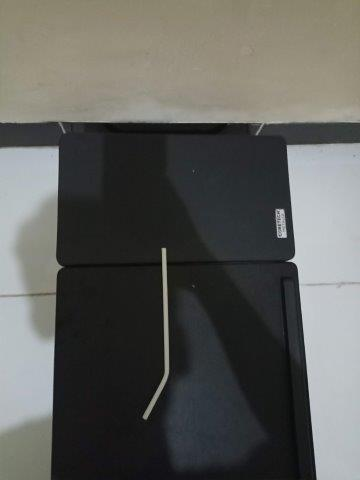sedotan: (142, 248, 169, 419)
